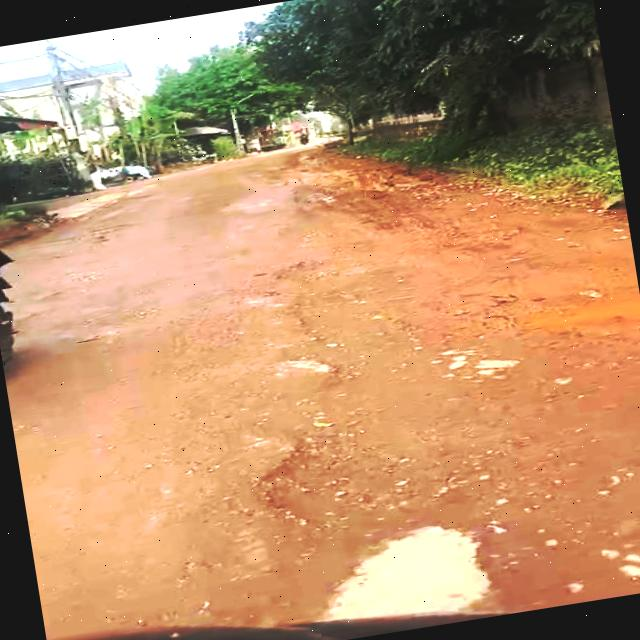pothole: (244, 416, 466, 540), (517, 285, 640, 358)
